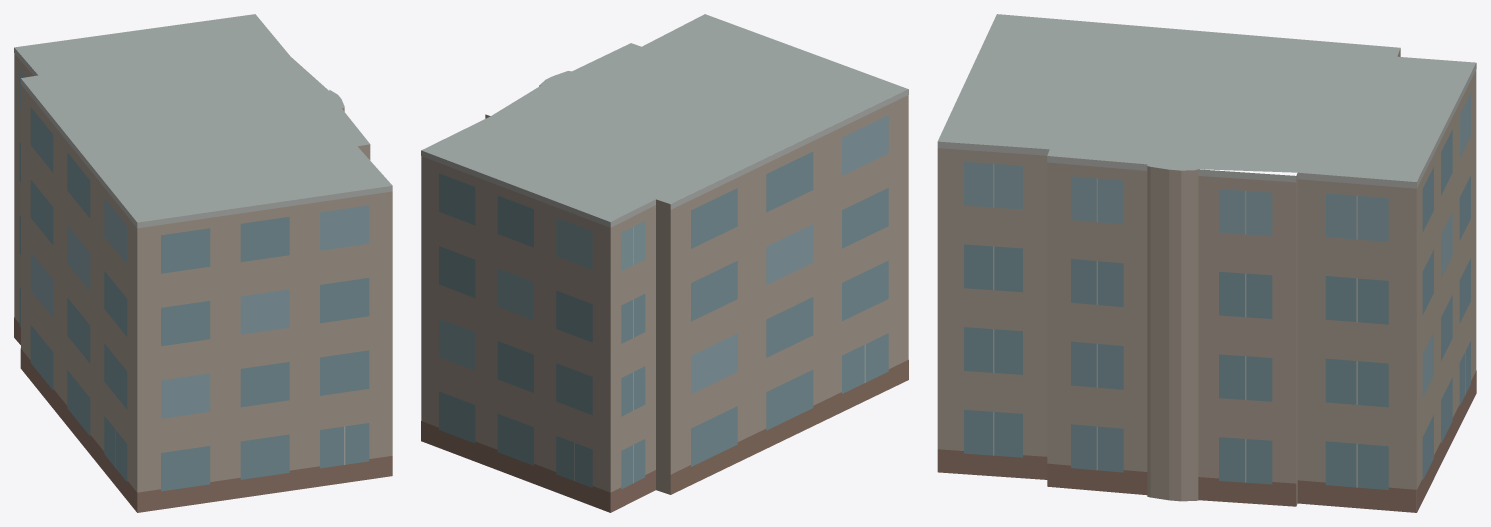
The model's file is survey-upis-33043364.glb.
3 renders of one model, left to right at view 1: azimuth 30°, elevation 25°; view 2: azimuth 150°, elevation 25°; view 3: azimuth 270°, elevation 25°, orthographic. The views are drawn at different scales.
Visible parts, largest first — view 1: survey-upis-33043364.tmp; view 2: survey-upis-33043364.tmp; view 3: survey-upis-33043364.tmp.
Boxes of the visible parts, x1,y1,x2,y2 form: survey-upis-33043364.tmp: [14, 14, 392, 512]; survey-upis-33043364.tmp: [421, 14, 908, 512]; survey-upis-33043364.tmp: [937, 14, 1476, 512].
Bounding box in the file's own units: 13.53 × 12.4 × 18.32.
